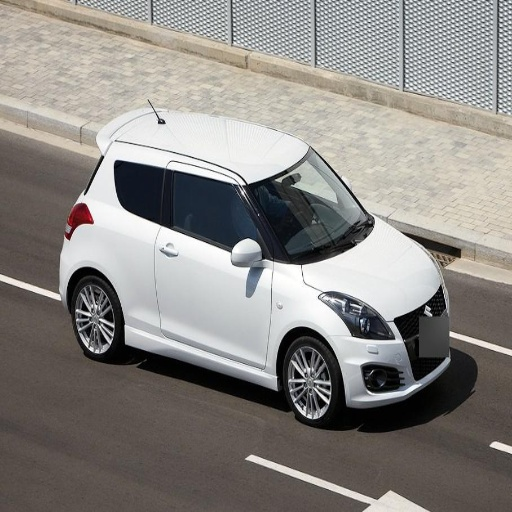back_right_door: (122, 156, 181, 334)
front_bumper: (337, 293, 452, 406)
front_right_door: (157, 167, 273, 370)
front_right_light: (321, 294, 394, 339)
